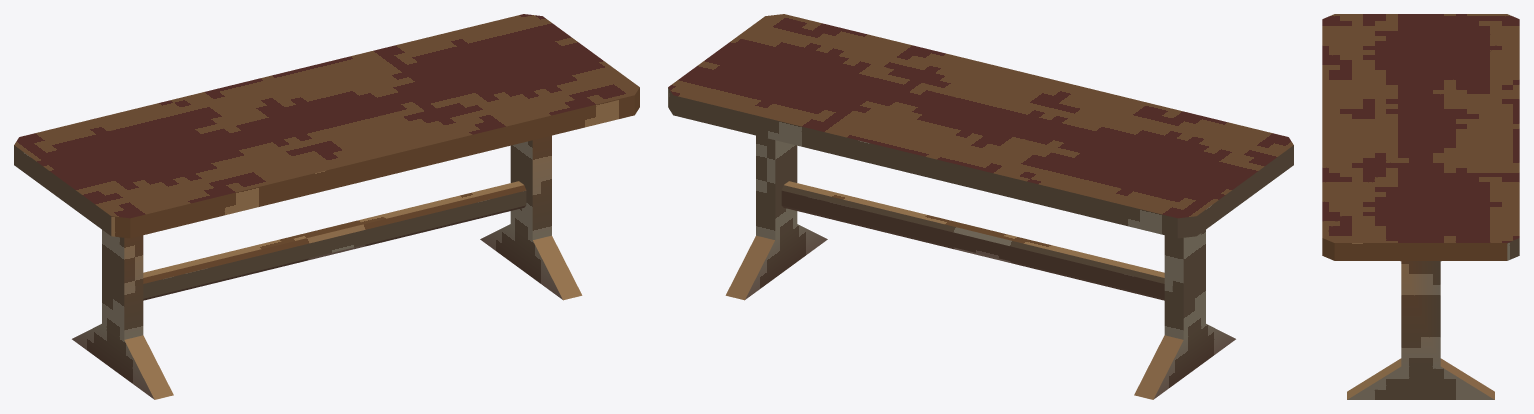
Rendered from wprop.table__long.glb.
The picture shows the model from 3 angles, left to right: view 1: azimuth 30°, elevation 25°; view 2: azimuth 150°, elevation 25°; view 3: azimuth 270°, elevation 25°; orthographic projection. The views are drawn at different scales.
Parts seen in each view (by area): view 1: kit_top, kit_legs, kit_stretcher; view 2: kit_top, kit_legs, kit_stretcher; view 3: kit_top, kit_legs.
Part boxes in pixels (left/top/right/bottom): kit_top: left=14, top=14, right=639, bottom=238; kit_legs: left=72, top=135, right=582, bottom=399; kit_stretcher: left=143, top=181, right=526, bottom=300; kit_top: left=668, top=14, right=1293, bottom=238; kit_legs: left=725, top=135, right=1235, bottom=399; kit_stretcher: left=781, top=181, right=1164, bottom=300; kit_top: left=1322, top=14, right=1519, bottom=260; kit_legs: left=1347, top=261, right=1494, bottom=399.
Bounding box in the file's own units: 2.2 × 0.8 × 0.8.
Materials: 2 (2 with a texture image).
